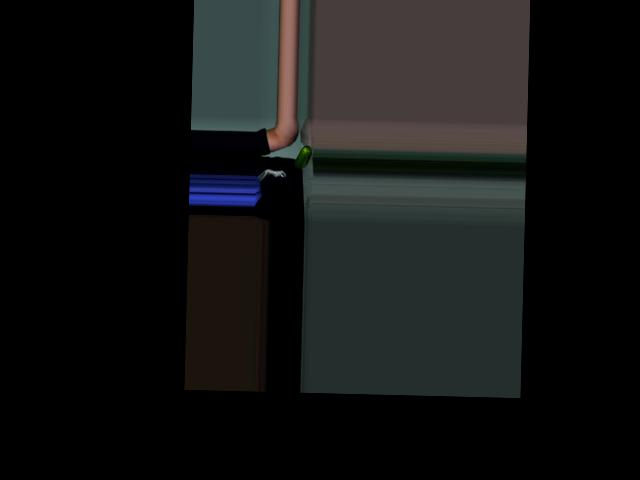cucumber: (294, 145, 312, 169)
